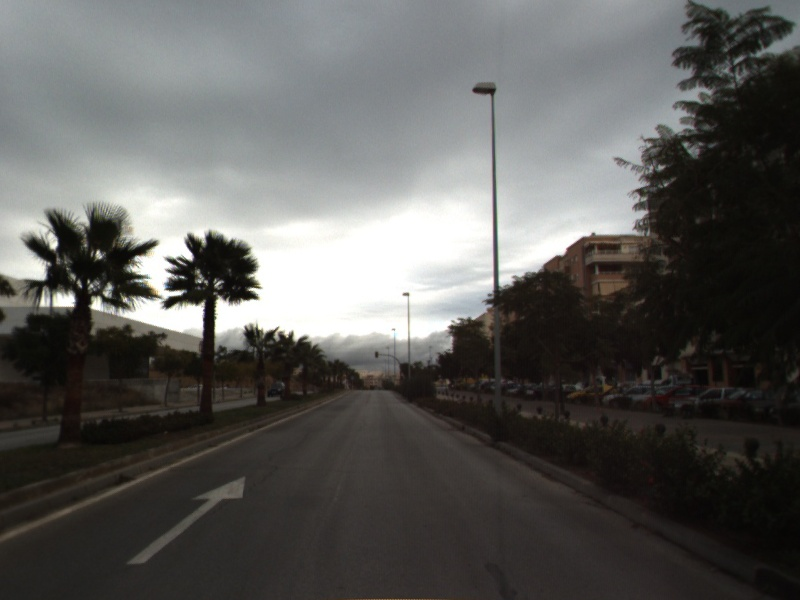STRAIGHT: (124, 474, 247, 566)
